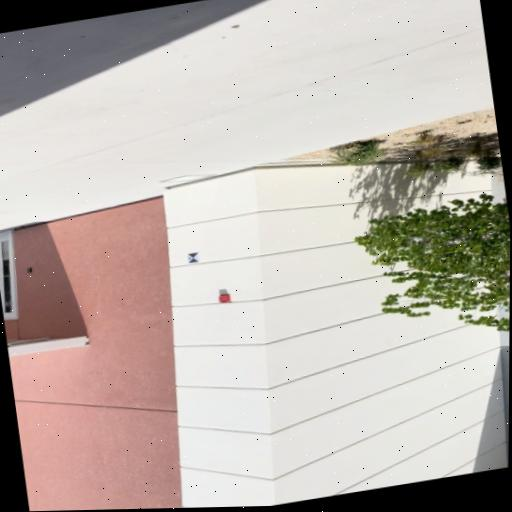target6: (187, 252, 200, 263)
